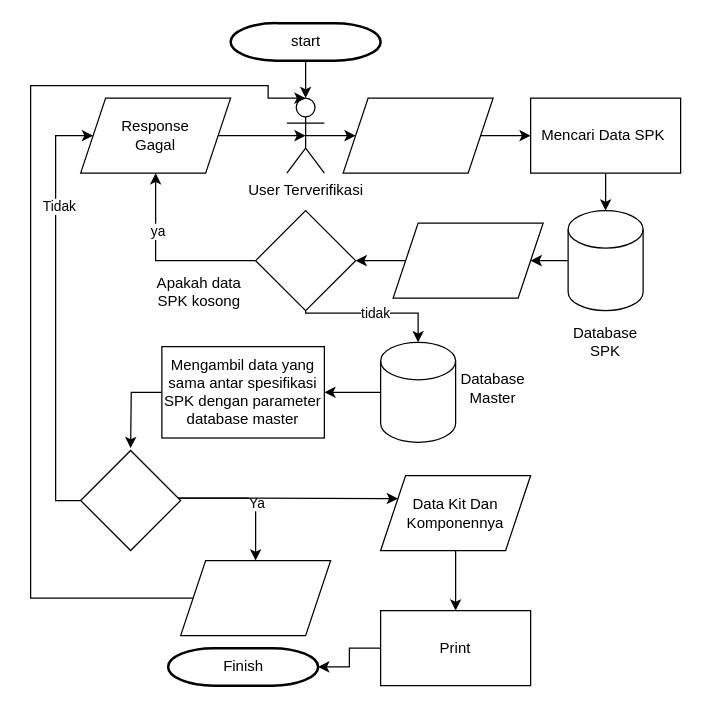
This 703x708 diagram has some shape labels left out. Here are the shapes that lost their labels. From the top down, the centre of each, then its label:
point 417,135: Kode SPK yang mau dicek
point 467,260: Data SPK
point 130,499: Apakah Cocok?
point 255,597: Response Sukses
